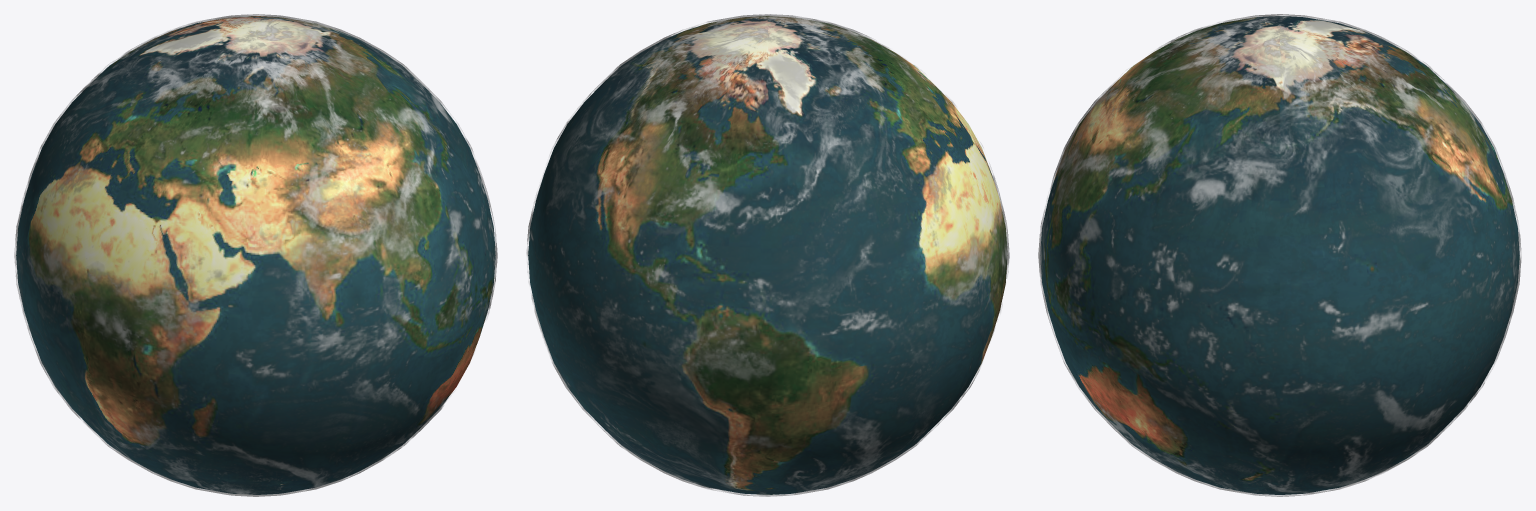
The picture shows the model from 3 angles, left to right: view 1: azimuth 30°, elevation 25°; view 2: azimuth 150°, elevation 25°; view 3: azimuth 270°, elevation 25°; orthographic projection.
Parts seen in each view (by area): view 1: Earth_0, Clouds_0; view 2: Earth_0, Clouds_0; view 3: Earth_0, Clouds_0.
Part boxes in pixels (left/top/right/bottom): Earth_0: left=16, top=16, right=495, bottom=494; Clouds_0: left=14, top=14, right=497, bottom=496; Earth_0: left=528, top=16, right=1007, bottom=494; Clouds_0: left=526, top=14, right=1009, bottom=496; Earth_0: left=1040, top=16, right=1519, bottom=494; Clouds_0: left=1038, top=14, right=1521, bottom=496.
Bounding box in the file's own units: 12.9 × 12.9 × 12.9.
Materials: 2 (2 with a texture image).
